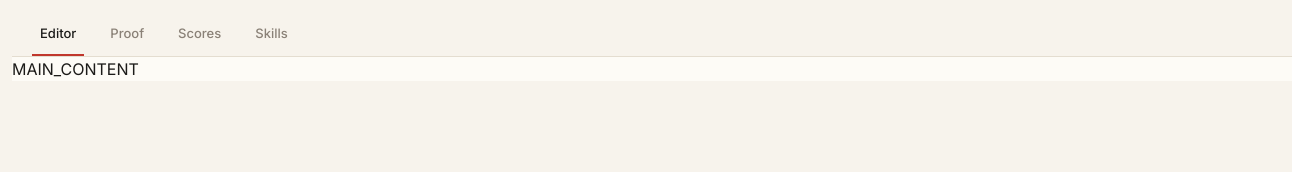
Test: ThreePane - Scores tab › narrow layout (segmented tabs) › reveals the scores content when the Scores tab is clicked
Step 1. Click the tab "Scores" → (200, 34), box [162,12,237,56]
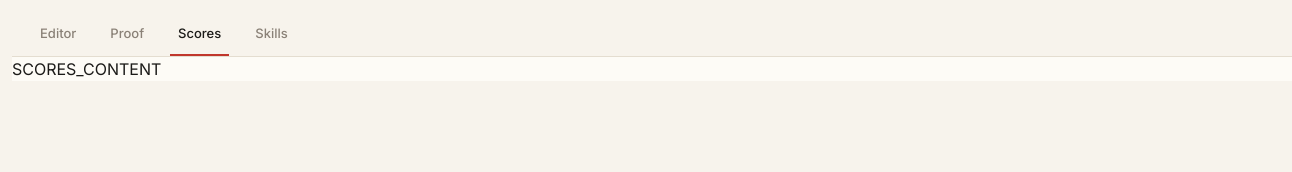
Expected: the text "SCORES_CONTENT" is shown, [12,59,161,79]
